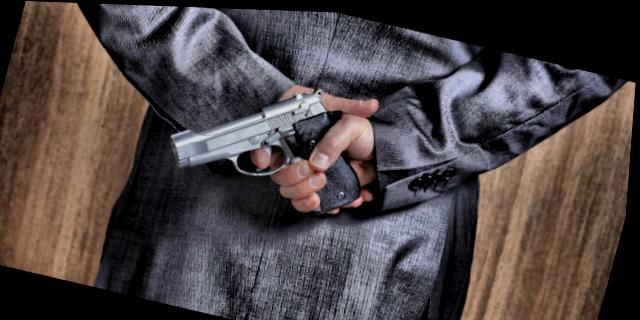pistol: (152, 63, 399, 224)
